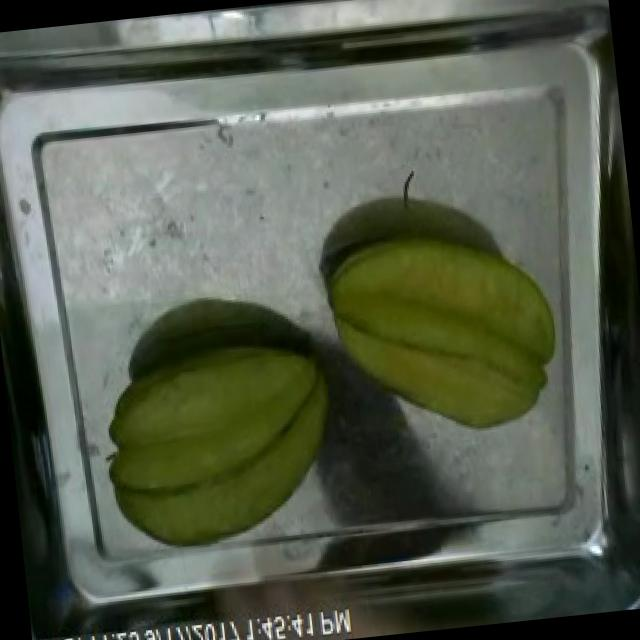fruit: (306, 205, 582, 460), (86, 323, 357, 560)
